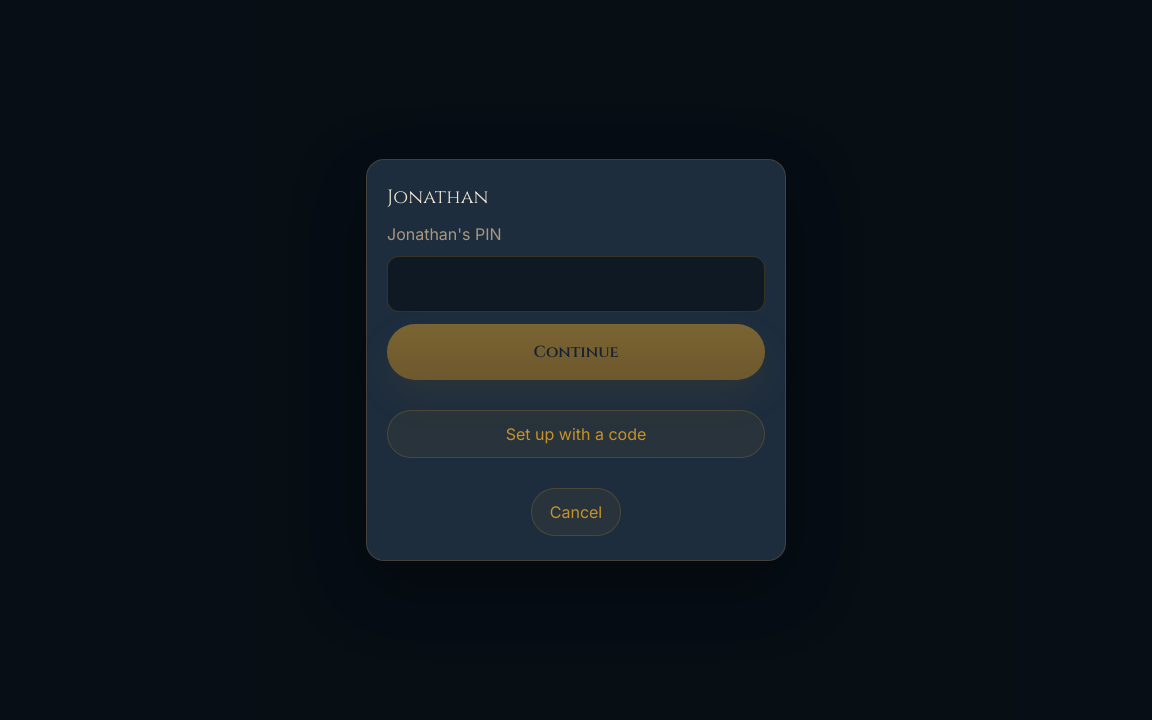
Test: setting up with a code (O2-08) › a grown-up on a new device can use a code too; a bad code says so
The width and height of the screenshot is (1152, 720).
Click the button "Set up with a code": x=576, y=434 x1=387 y1=410 x2=765 y2=458
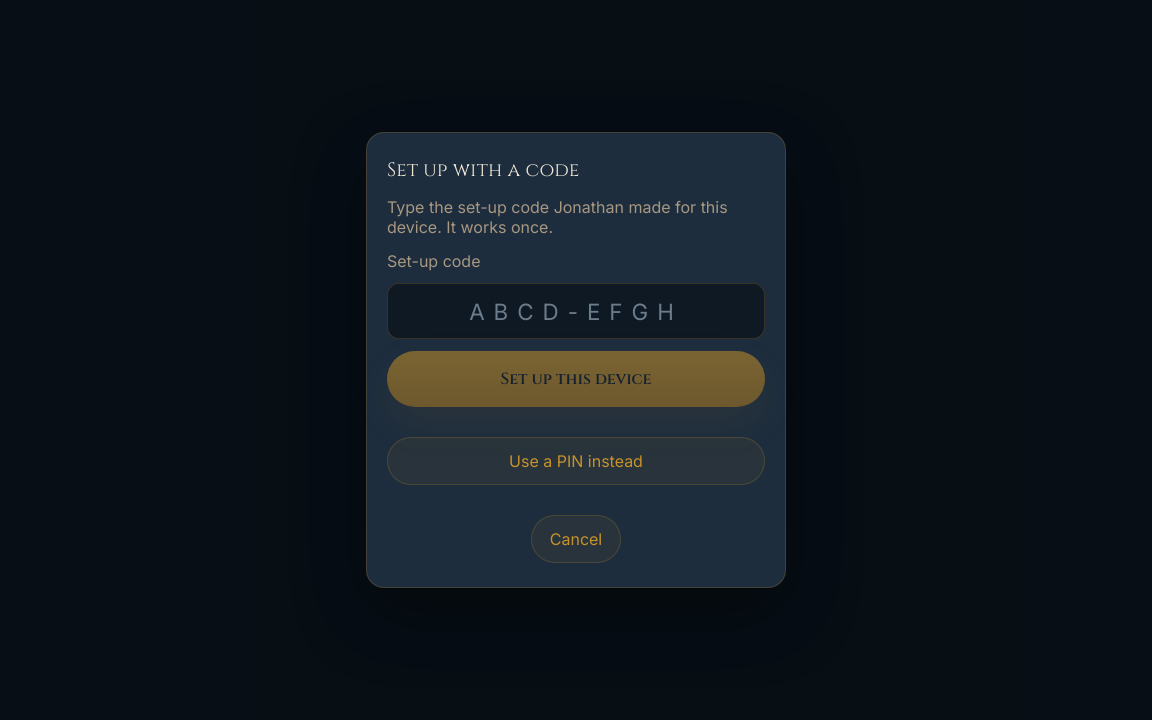
In the field labelled "Set-up code": x=576, y=311 x1=387 y1=283 x2=765 y2=339, type "BCDFGHJK"
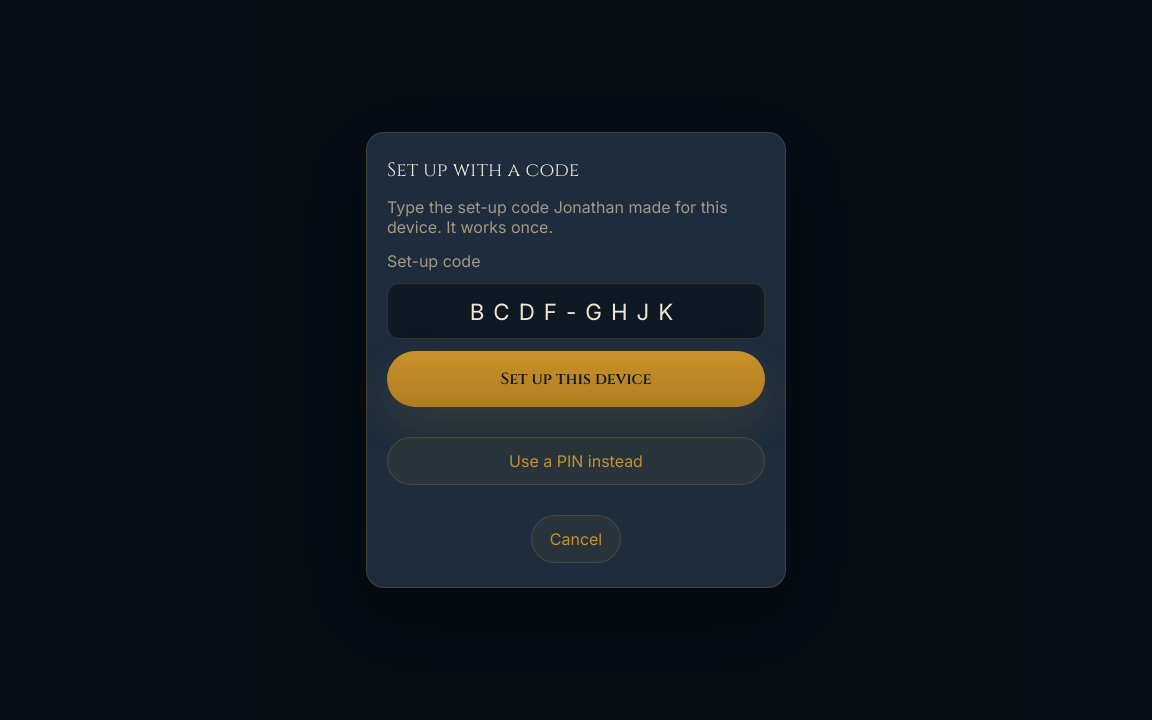
Click the button "Set up this device": x=576, y=379 x1=387 y1=351 x2=765 y2=407
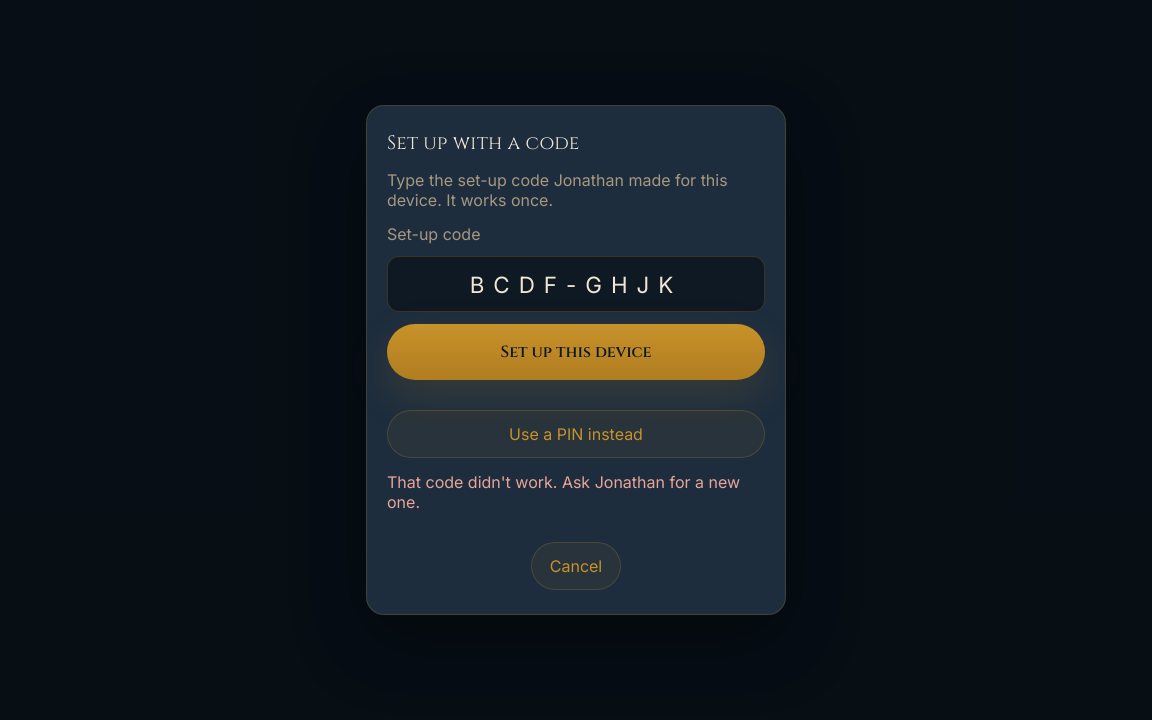
Check: the text "That code didn't work. Ask Jonathan for a new one." is shown, box x1=387 y1=472 x2=765 y2=512
